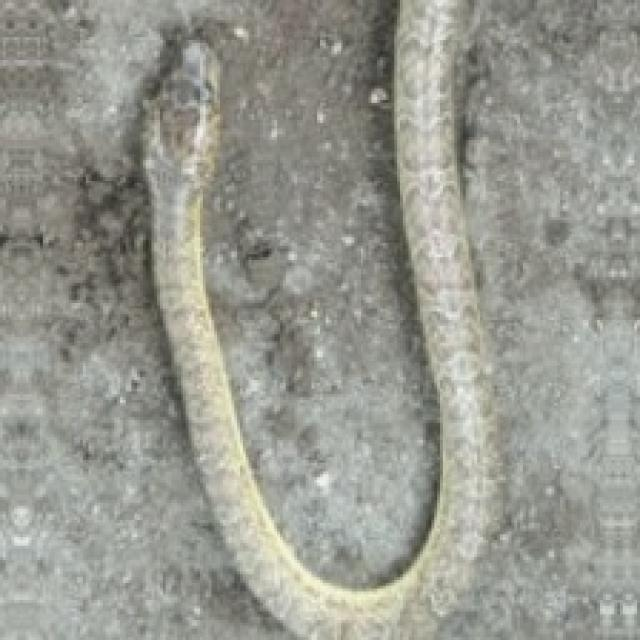mullers wolf snake: (0, 0, 434, 637), (143, 0, 497, 637), (440, 0, 637, 637)
